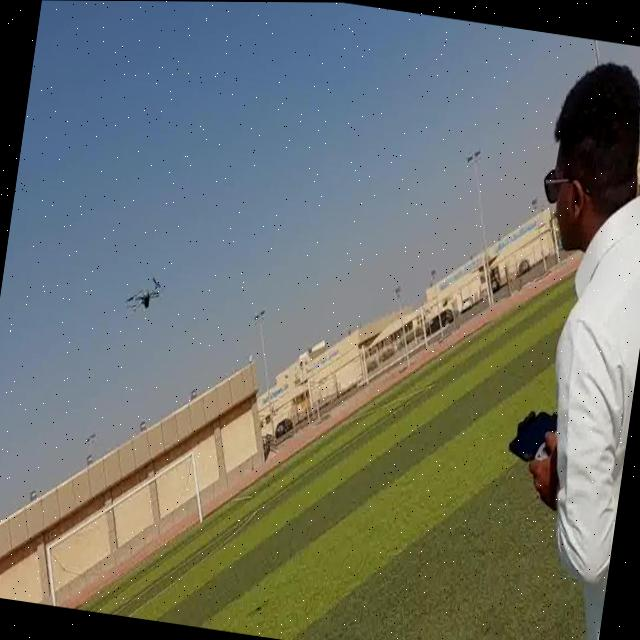drone: (120, 259, 172, 324)
